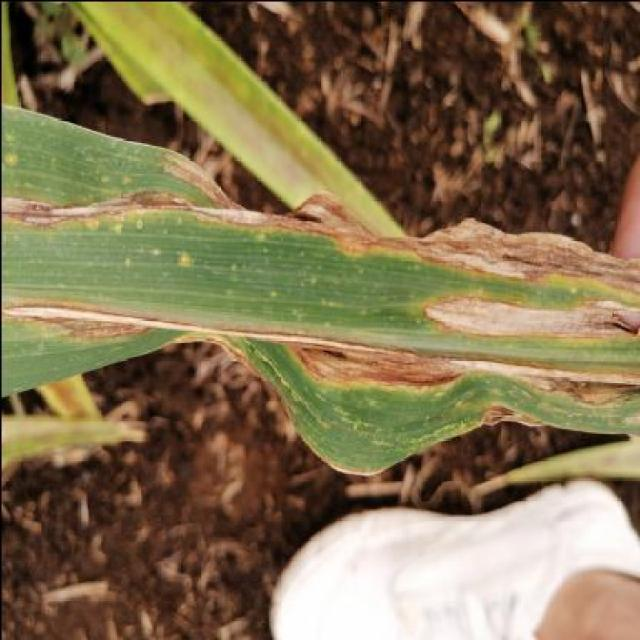Corn_Leaf_Blight: (0, 97, 640, 468)
